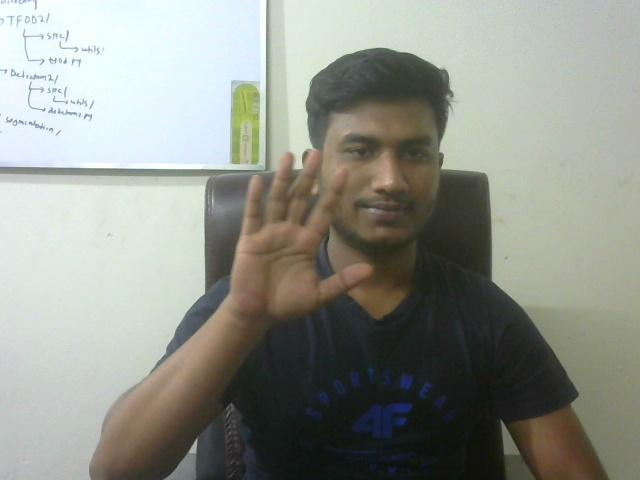Hello: (229, 142, 374, 327)
